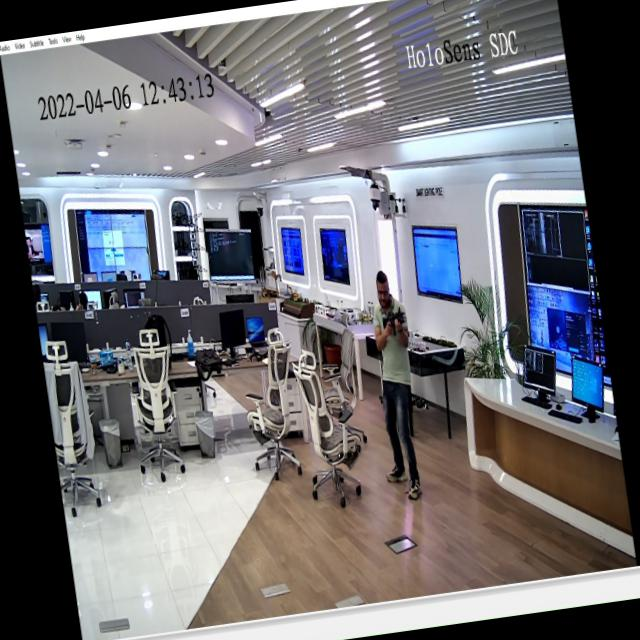long weapon: (374, 302, 419, 349)
